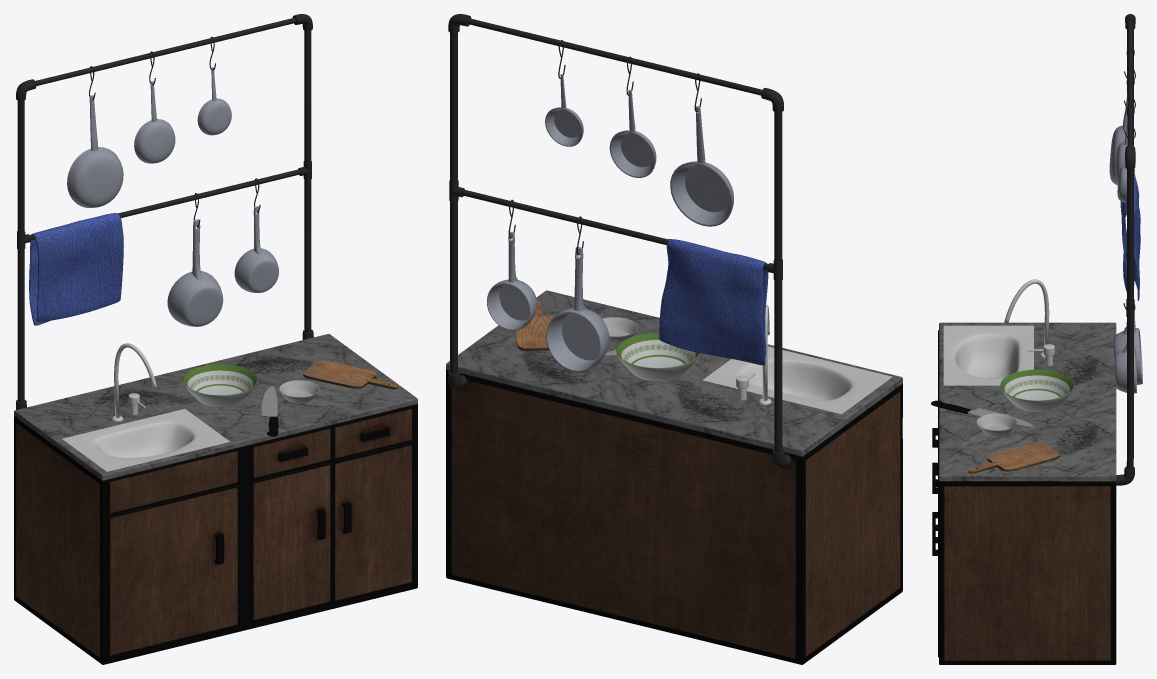
Rendered from kitchen_sink.glb.
3 renders of one model, left to right at view 1: azimuth 30°, elevation 25°; view 2: azimuth 150°, elevation 25°; view 3: azimuth 270°, elevation 25°, orthographic. The views are drawn at different scales.
Visible parts, largest first — view 1: Object_2, Object_4, Object_6, Object_3; view 2: Object_2, Object_4, Object_6, Object_3; view 3: Object_2, Object_6, Object_4, Object_3.
Part boxes in pixels (x1,y1,x2,y2): Object_2: (14,334,417,664); Object_4: (29,213,230,471); Object_6: (16,14,397,436); Object_3: (67,67,278,326); Object_2: (446,290,902,664); Object_4: (659,239,892,414); Object_6: (448,14,791,468); Object_3: (487,74,733,371); Object_2: (932,322,1116,664); Object_6: (931,14,1135,485); Object_4: (943,174,1140,385); Object_3: (1109,92,1142,393).
Size of the model in its own units: 3.47 by 5.35 by 2.03.
4 materials, 4 textured.
